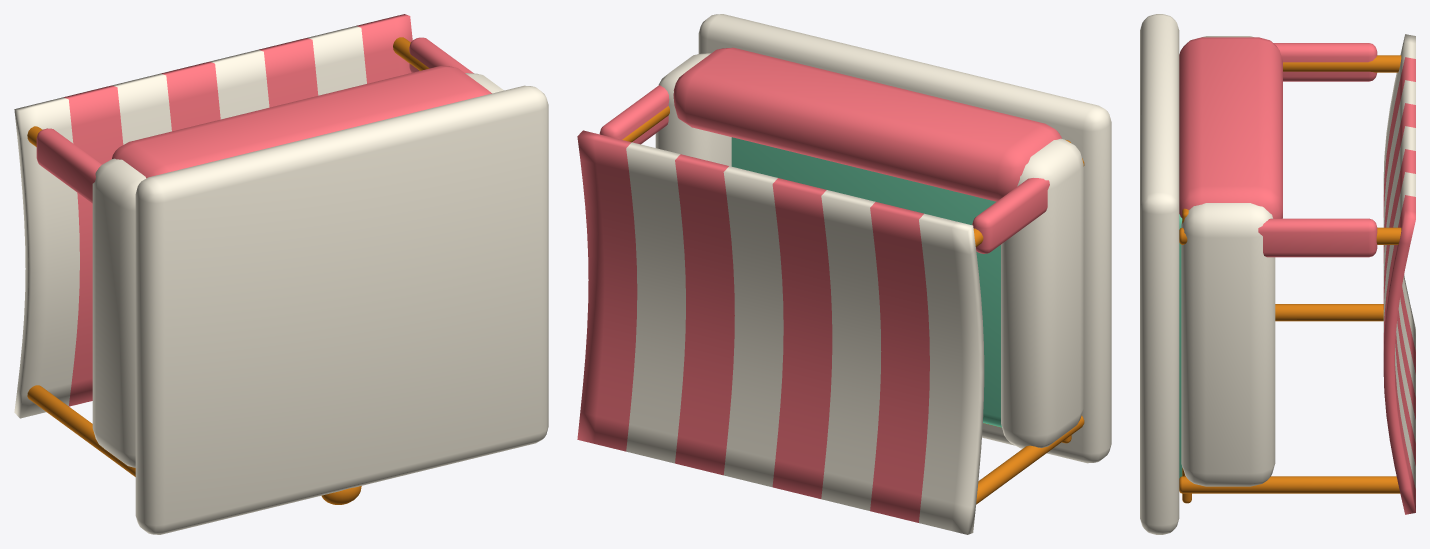
The model's file is CanopyBed_Premium.fbx.
3 views of the same model, side by side, from view 1: azimuth 30°, elevation 25°; view 2: azimuth 150°, elevation 25°; view 3: azimuth 270°, elevation 25° (orthographic). The views are drawn at different scales.
Parts seen in each view (by area): view 1: CanopyBed_Body; view 2: CanopyBed_Body; view 3: CanopyBed_Body.
Part boxes in pixels (x1,y1,x2,y2): CanopyBed_Body: (14, 14, 548, 534); CanopyBed_Body: (577, 14, 1111, 534); CanopyBed_Body: (1140, 14, 1415, 534).
Size of the model in its own units: 1.11 by 0.97 by 0.6777.
